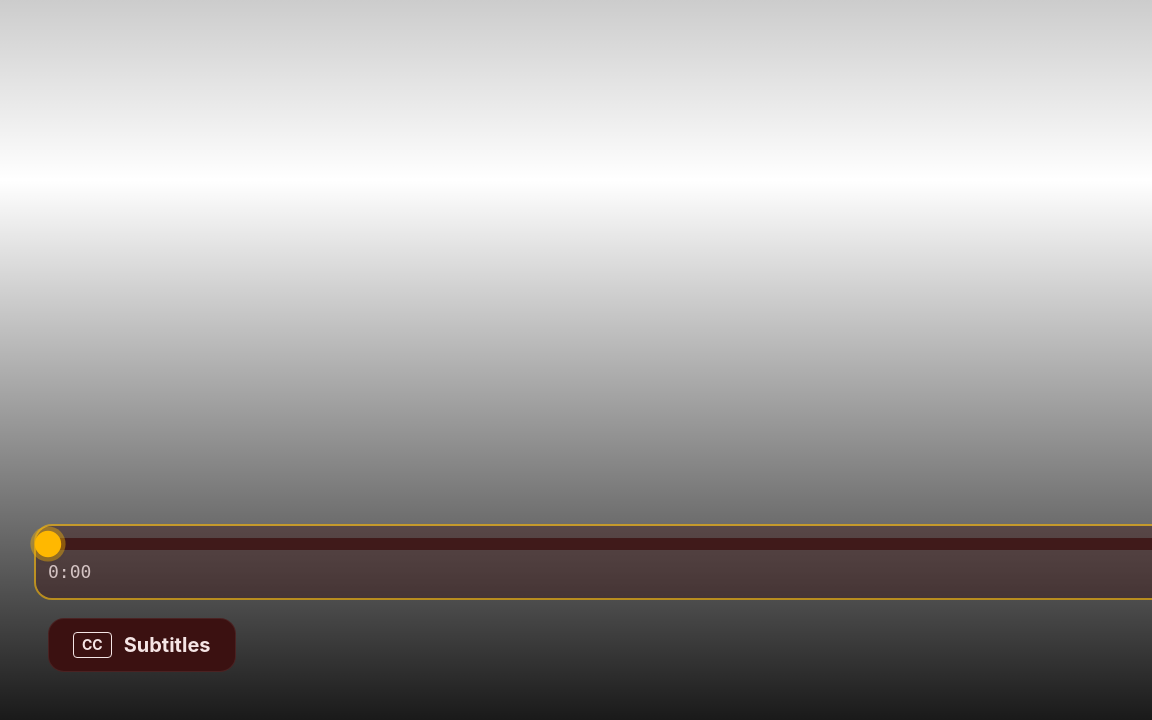
Test: PlayerScreen › Subtitle Discovery & Track Selection › downloads online subtitle via SubtitleModal and immediately activates it in the overlay
Later steps or results of the test are not shown.
(page scrolled)
Note: Open subtitles modal
Click the button with test id "subtitles-button". click: (142, 645)
box: [48,618,236,672]
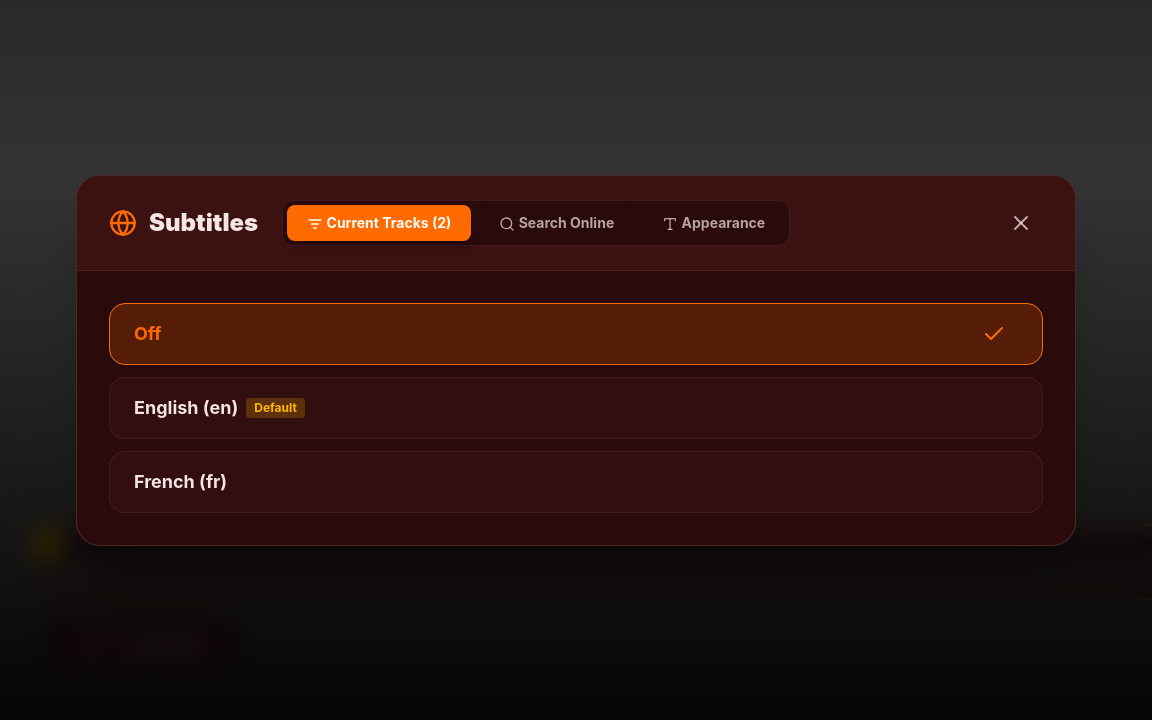
Note: Switch to Search Online tab
Click the button "Search Online". click: (557, 222)
box: [479,204,634,240]
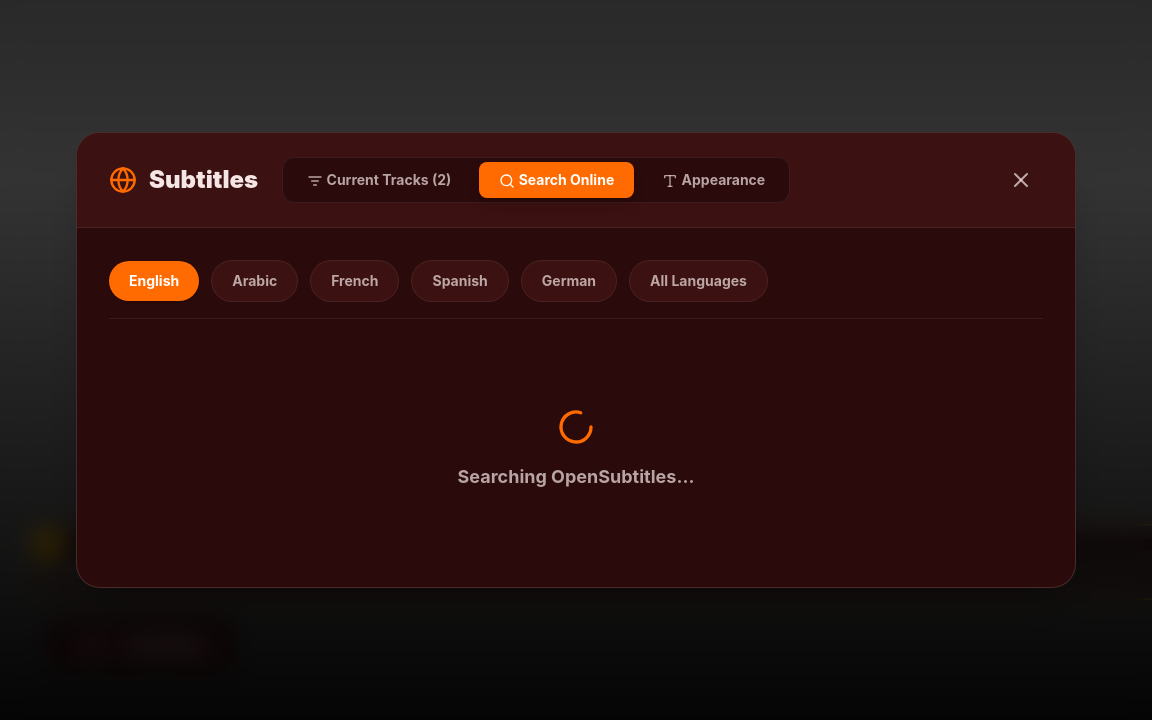
Note: Pick Arabic language
Click the button with test id "lang-btn-ara". click: (255, 281)
box: [211,260,298,302]
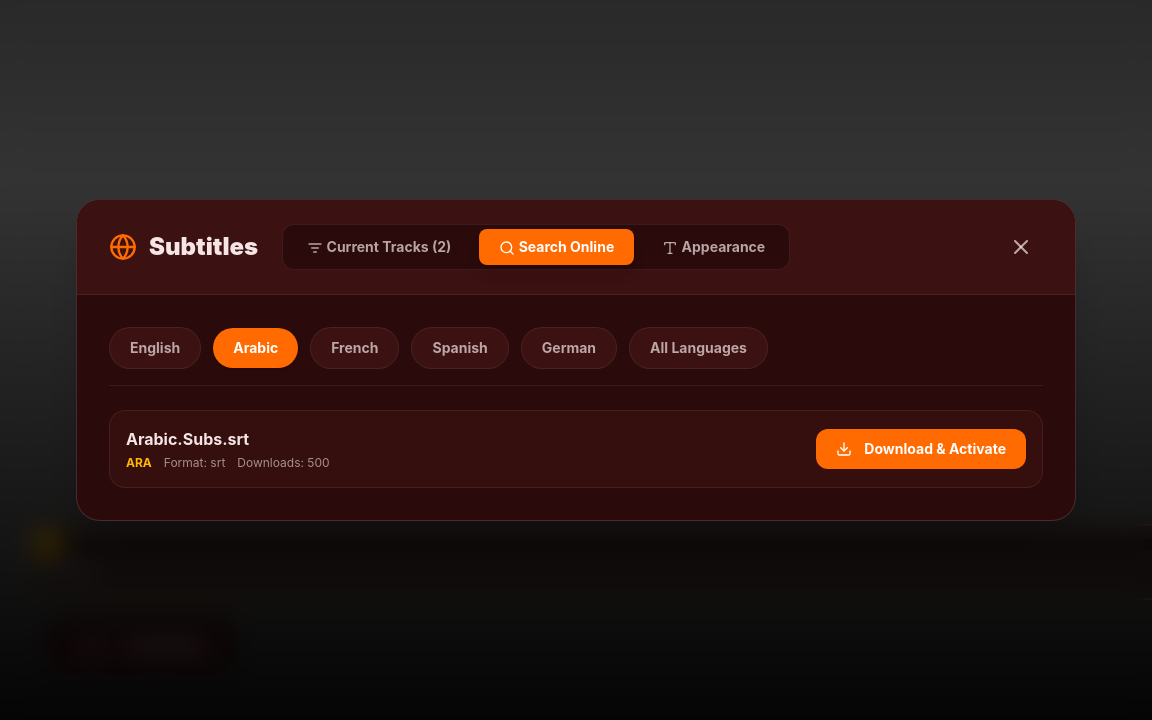
Now the text "Arabic.Subs.srt" is shown, box [126,429,249,449]
